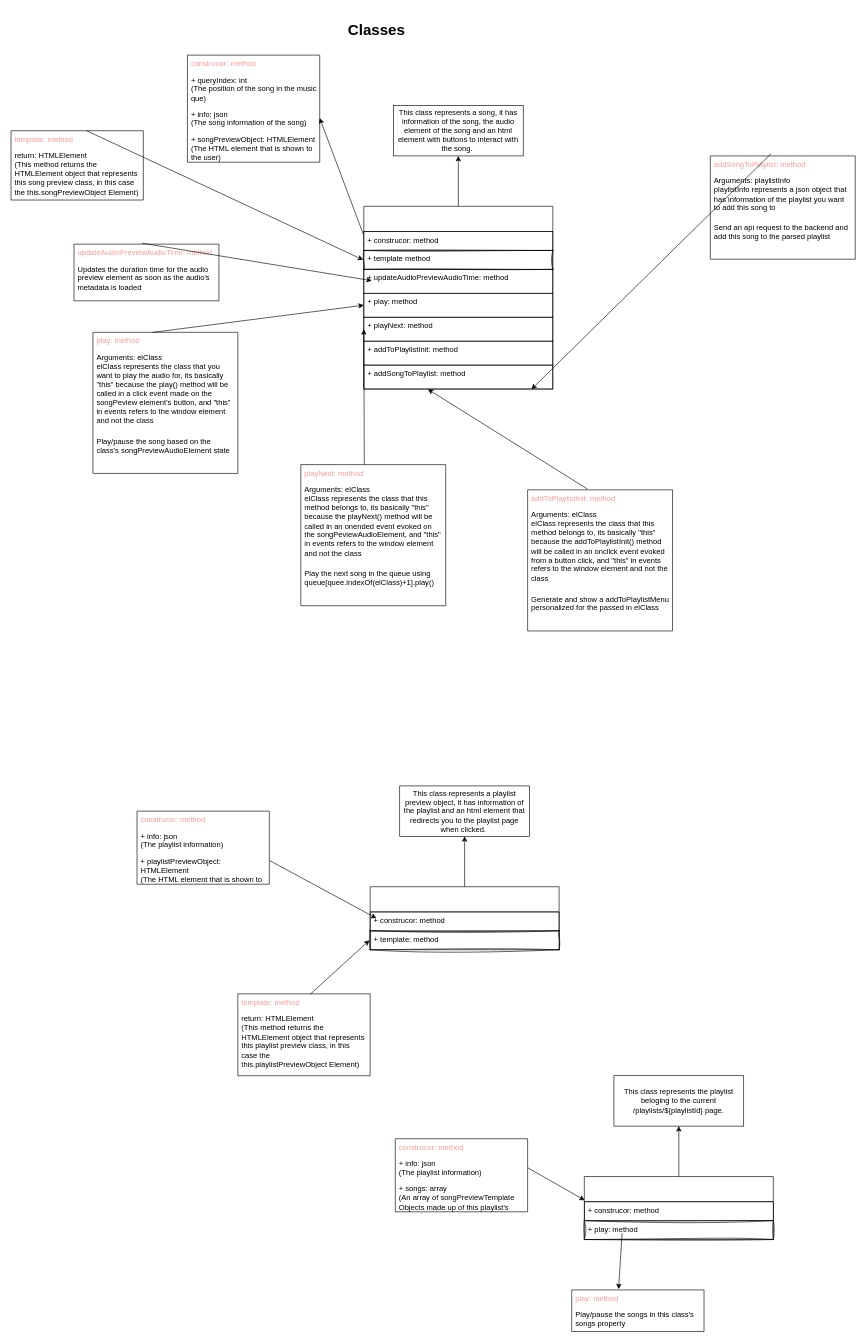
The diagram is 866 pixels wide and 1344 high, and some of its shapes have lost their labels. Here are the shapes that lost their labels. From the top down, the box of each, then its label:
(363, 206, 553, 389): songPreviewTemplate
(369, 886, 559, 950): playlistPreviewTemplate
(584, 1176, 773, 1240): pagePlaylistClass
